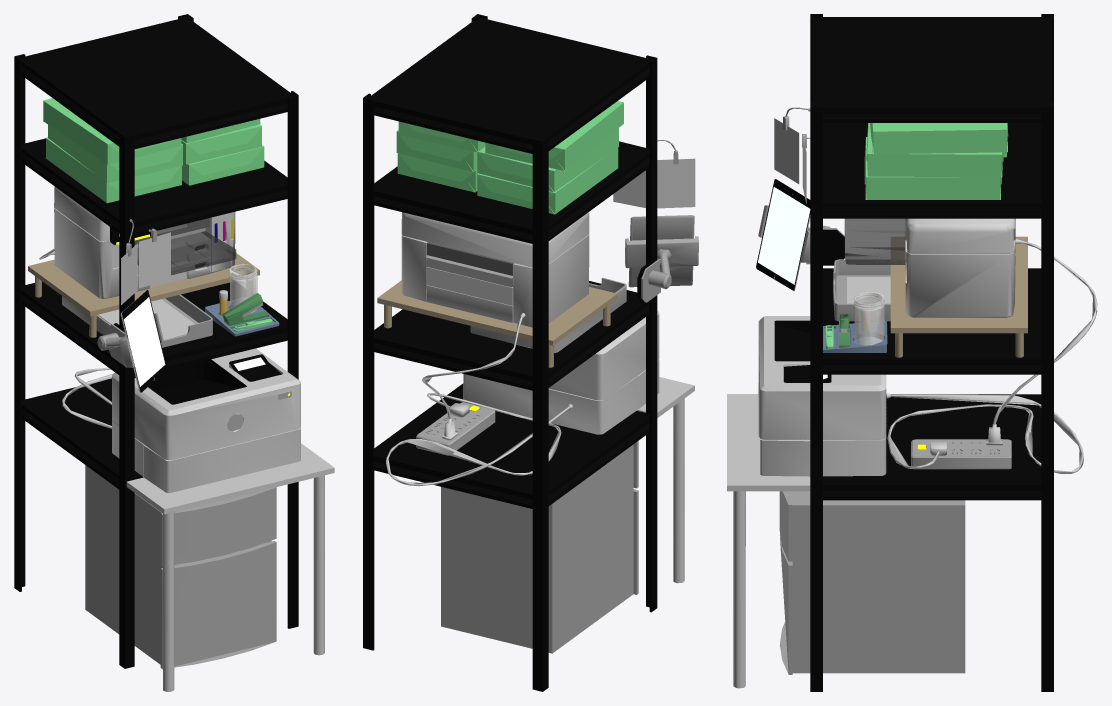
The model's file is BK_Dollhouse_2-low.glb.
The picture shows the model from 3 angles, left to right: view 1: azimuth 30°, elevation 25°; view 2: azimuth 150°, elevation 25°; view 3: azimuth 270°, elevation 25°; orthographic projection. The views are drawn at different scales.
Parts seen in each view (by area): view 1: Body88.001; view 2: Body88.001; view 3: Body88.001.
Part boxes in pixels (x1,y1,x2,y2): Body88.001: (14,14,334,691); Body88.001: (363,14,698,691); Body88.001: (727,14,1097,691).
Bounding box in the file's own units: 0.5994 × 1.55 × 0.8906.
